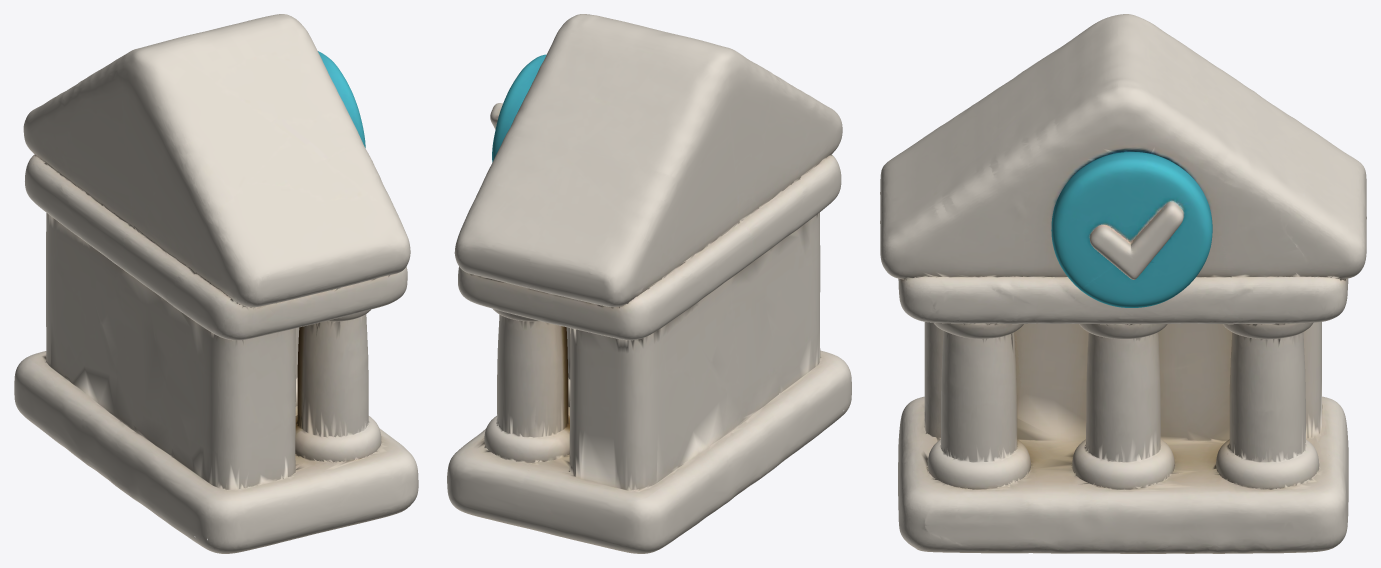
File: step-4.glb
3 renders of one model, left to right at view 1: azimuth 30°, elevation 25°; view 2: azimuth 150°, elevation 25°; view 3: azimuth 270°, elevation 25°, orthographic. The views are drawn at different scales.
Visible parts, largest first — view 1: tripo_node_487204c2-755c-48ee-a72b-4fcac31f9c53; view 2: tripo_node_487204c2-755c-48ee-a72b-4fcac31f9c53; view 3: tripo_node_487204c2-755c-48ee-a72b-4fcac31f9c53.
Boxes of the visible parts, x1,y1,x2,y2 form: tripo_node_487204c2-755c-48ee-a72b-4fcac31f9c53: (14, 14, 418, 553); tripo_node_487204c2-755c-48ee-a72b-4fcac31f9c53: (447, 14, 851, 553); tripo_node_487204c2-755c-48ee-a72b-4fcac31f9c53: (880, 14, 1366, 553).
Bounding box in the file's own units: 0.0892 × 0.15 × 0.145.
Materials: 1 (1 with a texture image).
